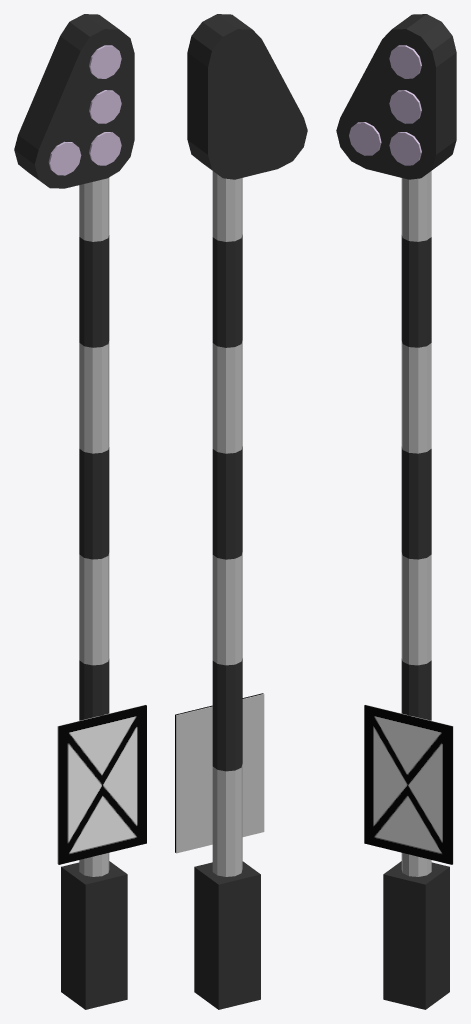
The model's file is SemaforTarczaPrzejazdowa.fbx.
The picture shows the model from 3 angles, left to right: view 1: azimuth 30°, elevation 25°; view 2: azimuth 210°, elevation 25°; view 3: azimuth 330°, elevation 25°; orthographic projection.
Visible parts, largest first — view 1: Pole, Light3, Light2, Light4, Light1; view 2: Pole; view 3: Pole, Light3, Light4, Light2, Light1.
Boxes of the visible parts, left/top/right/bottom form: Pole: left=14, top=14, right=146, bottom=1009; Light3: left=89, top=132, right=121, bottom=165; Light2: left=89, top=90, right=121, bottom=123; Light4: left=48, top=141, right=81, bottom=175; Light1: left=89, top=45, right=121, bottom=78; Pole: left=175, top=14, right=307, bottom=1009; Pole: left=336, top=14, right=456, bottom=1009; Light3: left=389, top=132, right=421, bottom=165; Light4: left=349, top=122, right=381, bottom=155; Light2: left=389, top=90, right=421, bottom=123; Light1: left=389, top=45, right=421, bottom=78.
Bounding box in the file's own units: 86.46 × 706 × 32.05.
Materials: 4 (1 with a texture image).
